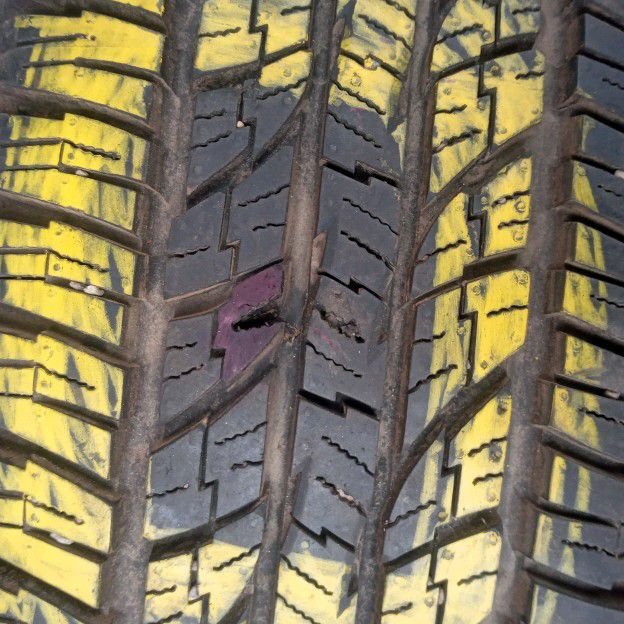tr: (212, 260, 321, 385)
